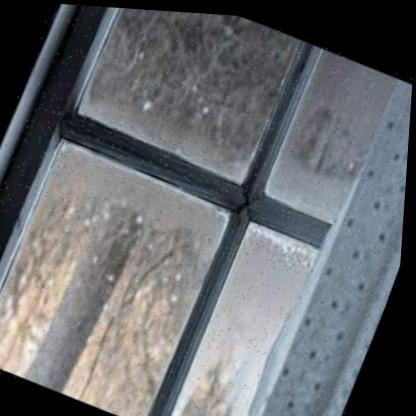Window: (0, 0, 411, 416)
